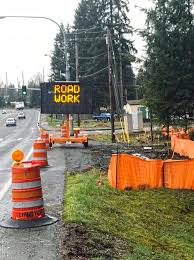barrel: (11, 163, 46, 219), (33, 141, 49, 164)
